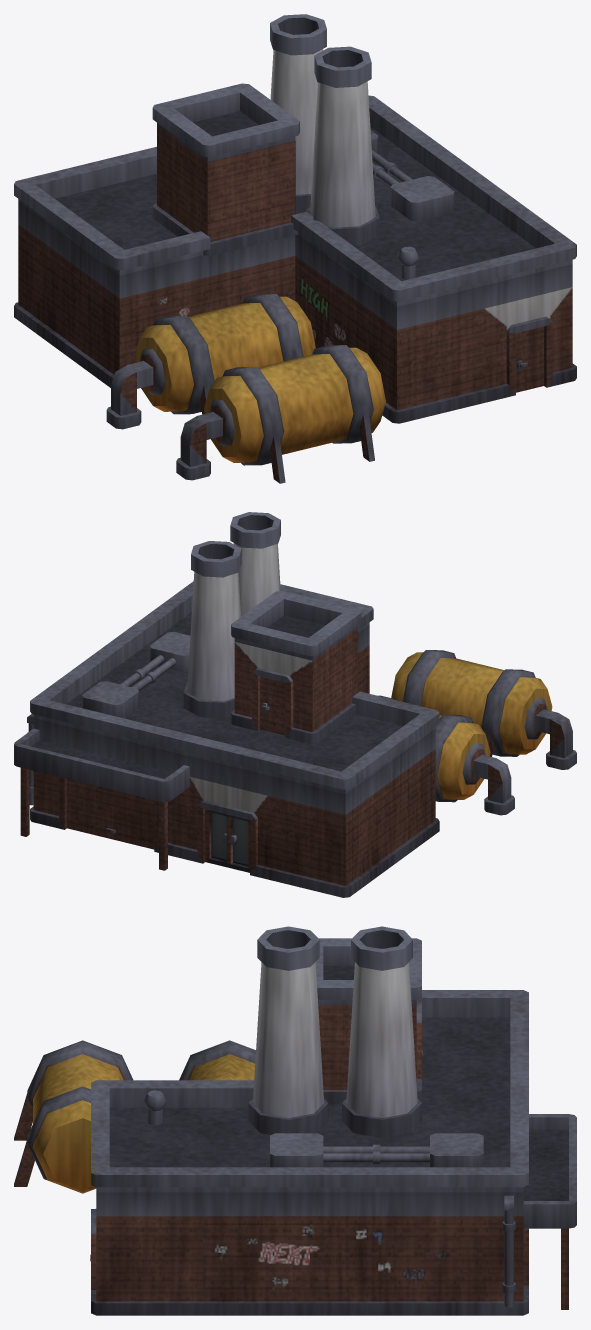
Rendered from building-c-brown-scuffed.glb.
The picture shows the model from 3 angles, top to bottom: view 1: azimuth 30°, elevation 25°; view 2: azimuth 150°, elevation 25°; view 3: azimuth 270°, elevation 25°; orthographic projection. The views are drawn at different scales.
Parts seen in each view (by area): view 1: building-c; view 2: building-c; view 3: building-c.
Boxes of the visible parts, left/top/right/bottom form: building-c: left=14, top=14, right=576, bottom=483; building-c: left=14, top=512, right=576, bottom=897; building-c: left=14, top=926, right=576, bottom=1315.
Size of the model in its own units: 1.88 by 1.25 by 2.11.
1 material, 1 textured.
